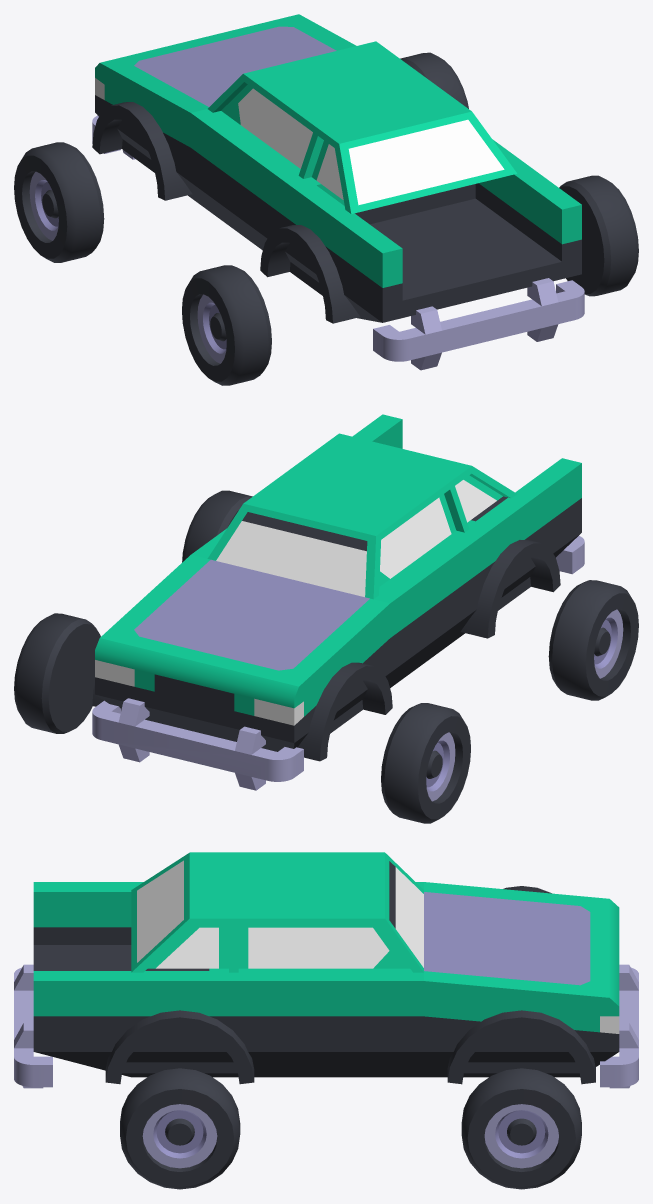
The model's file is blue car.glb.
3 views of the same model, one above another, from view 1: azimuth 30°, elevation 25°; view 2: azimuth 150°, elevation 25°; view 3: azimuth 270°, elevation 25° (orthographic).
Parts seen in each view (by area): view 1: body_backBed, wheel_standard (×4), body_frontStandard, body_topSteep, body_topBackStandard, body_standard, bumper_detailed, wheel_coverStandard (×2); view 2: body_frontStandard, wheel_standard (×4), body_topSteep, body_standard, bumper_detailed (×2), body_backBed, wheel_coverStandard (×2), body_topBackStandard; view 3: body_frontStandard, body_backBed, wheel_standard (×2), body_topSteep, body_standard, body_topBackStandard, wheel_coverStandard (×2), bumper_detailed (×2).
Part boxes in pixels (box(x1,y1,x2,y2)): body_backBed: box(286, 139, 581, 322); wheel_standard (×4): box(14, 52, 638, 385); body_frontStandard: box(95, 14, 356, 211); body_topSteep: box(208, 41, 452, 178); body_topBackStandard: box(312, 97, 516, 213); body_standard: box(191, 109, 302, 264); bumper_detailed: box(373, 278, 584, 370); wheel_coverStandard (×2): box(92, 102, 360, 323); body_frontStandard: box(95, 555, 390, 751); wheel_standard (×4): box(14, 490, 638, 823); body_topSteep: box(207, 447, 469, 599); body_standard: box(191, 528, 485, 687); bumper_detailed (×2): box(92, 536, 584, 790); body_backBed: box(352, 414, 581, 597); wheel_coverStandard (×2): box(298, 540, 560, 761); body_topBackStandard: box(320, 433, 516, 522); body_frontStandard: box(424, 882, 619, 1077); body_backBed: box(33, 882, 228, 1077); wheel_standard (×2): box(120, 1068, 581, 1189); body_topSteep: box(229, 852, 423, 972); body_standard: box(229, 882, 423, 1077); body_topBackStandard: box(131, 852, 228, 972); wheel_coverStandard (×2): box(105, 1010, 595, 1084); bumper_detailed (×2): box(14, 964, 638, 1088).
Bounding box in the file's own units: 2.43 × 1.17 × 3.2.
